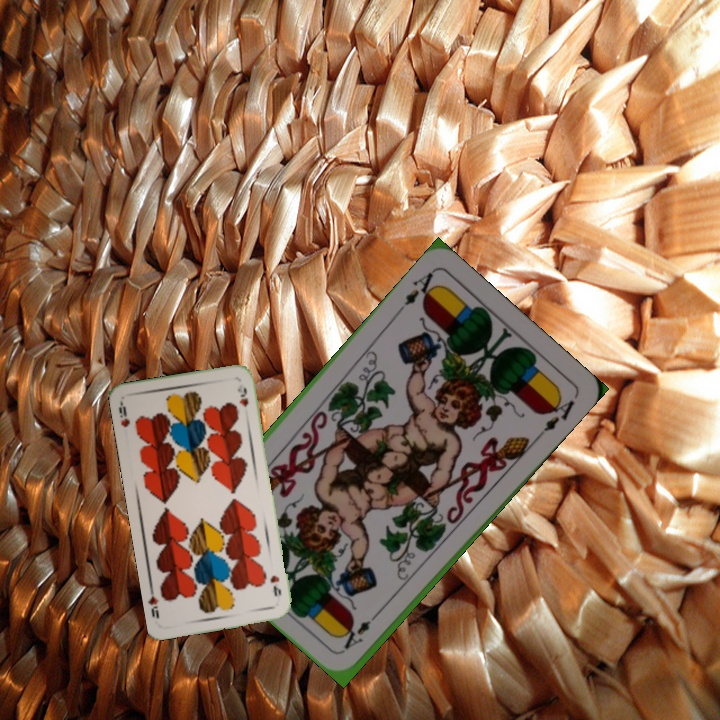EA: (339, 606, 384, 653), (401, 267, 440, 308)
H9: (115, 398, 132, 430), (266, 571, 284, 599)
